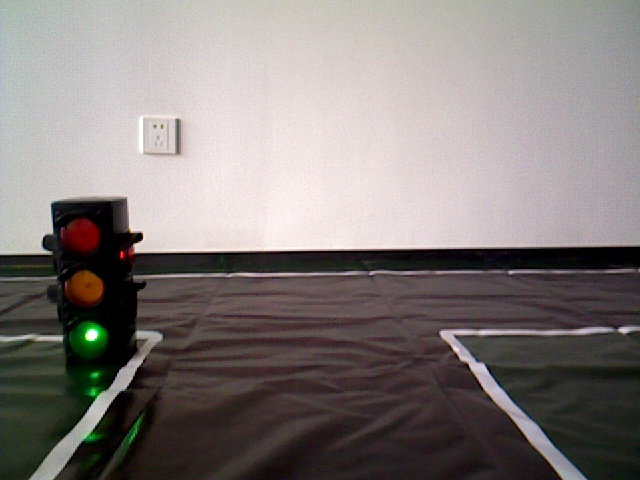green: (55, 200, 129, 356)
